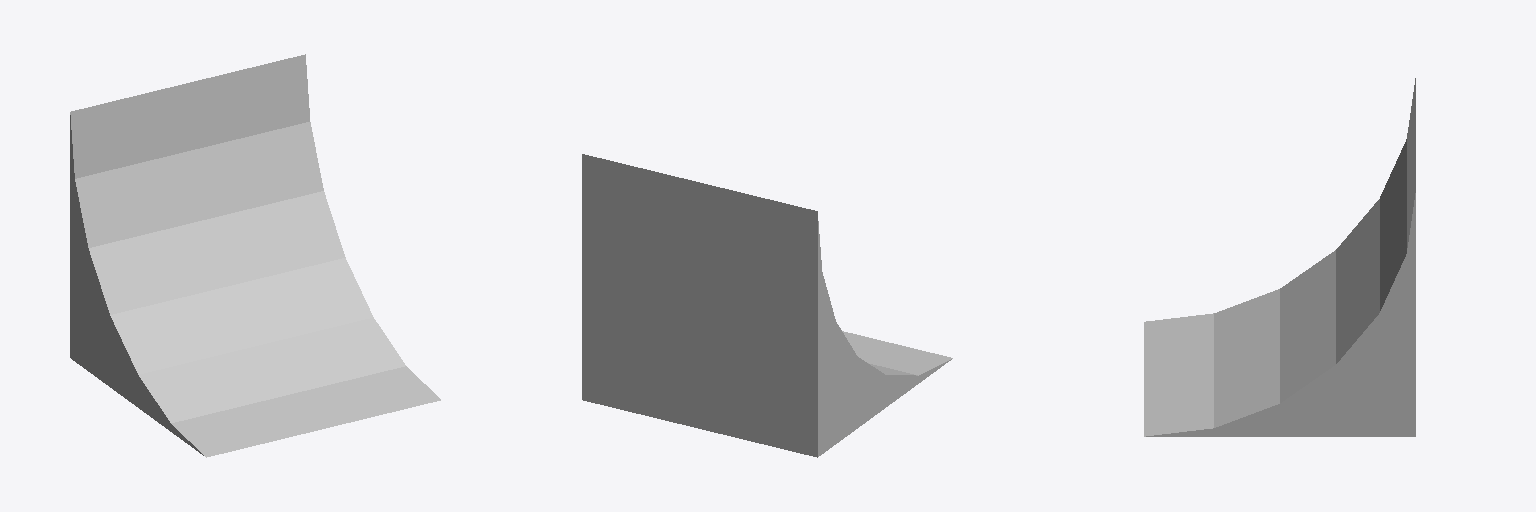
The picture shows the model from 3 angles: view 1: azimuth 30°, elevation 25°; view 2: azimuth 150°, elevation 25°; view 3: azimuth 270°, elevation 25°; orthographic projection.
Visible parts, largest first — view 1: Base08; view 2: Base08; view 3: Base08.
Boxes of the visible parts, <box> form: Base08: <box>70,54,440,457</box>; Base08: <box>582,154,952,457</box>; Base08: <box>1144,78,1415,436</box>.
Bounding box in the file's own units: 2 × 2 × 2.